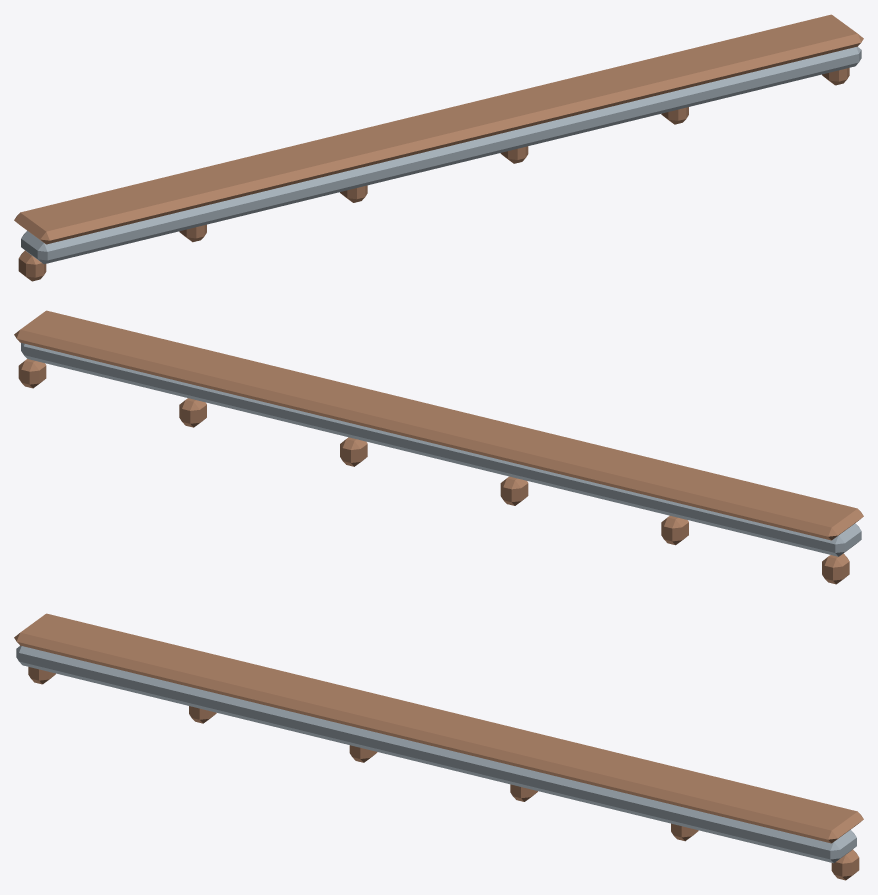
File: cornice_band.glb
3 views of the same model, one above another, from view 1: azimuth 30°, elevation 25°; view 2: azimuth 150°, elevation 25°; view 3: azimuth 330°, elevation 25° (orthographic).
Visible parts, largest first — view 1: cornice_band; view 2: cornice_band; view 3: cornice_band.
Part boxes in pixels (x1,y1,x2,y2): cornice_band: [14, 14, 863, 281]; cornice_band: [14, 310, 863, 584]; cornice_band: [14, 613, 863, 880].
Size of the model in its own units: 2 by 0.14 by 0.14.
